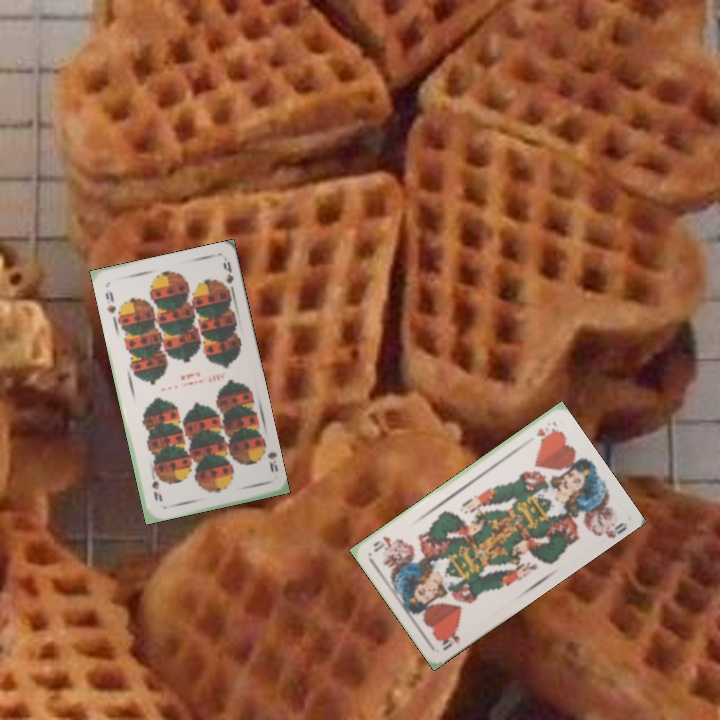HO: (436, 625, 462, 653), (533, 424, 558, 443)
S9: (257, 440, 281, 475), (101, 286, 118, 316)
